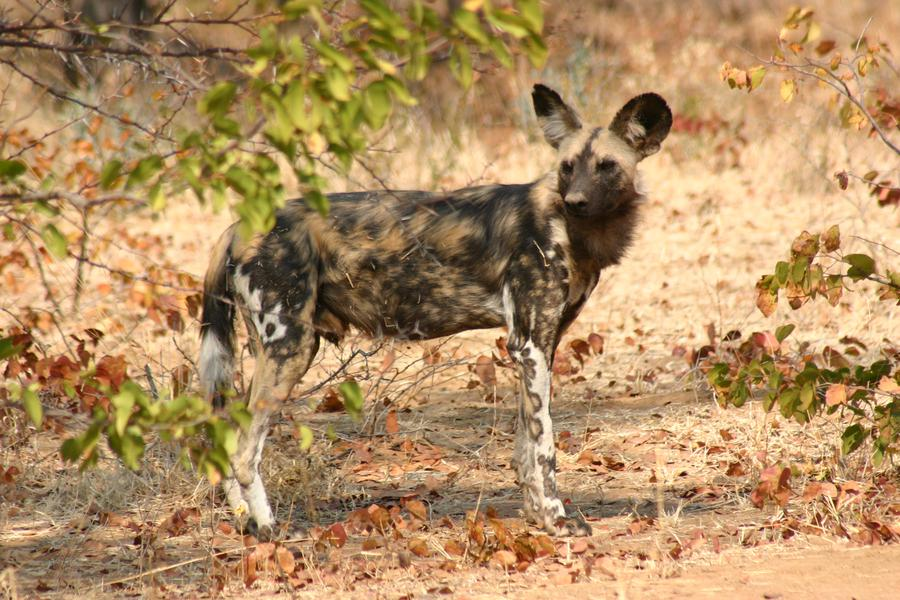wilddog: (210, 121, 638, 361)
